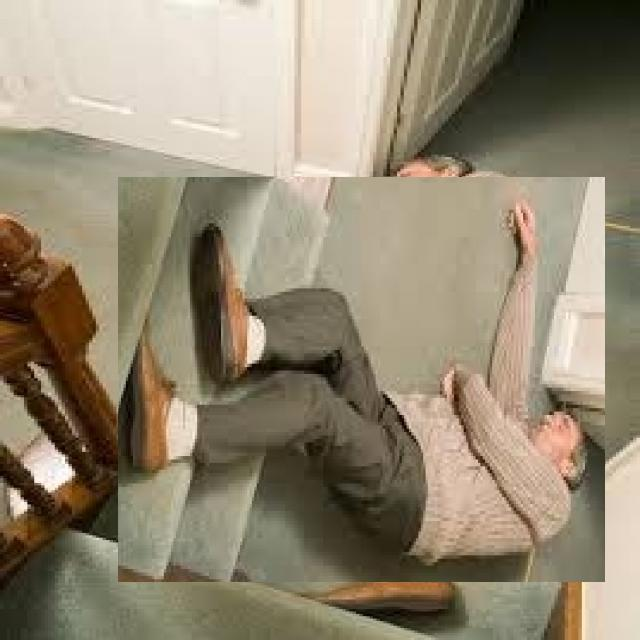Fall: (117, 182, 603, 578)
